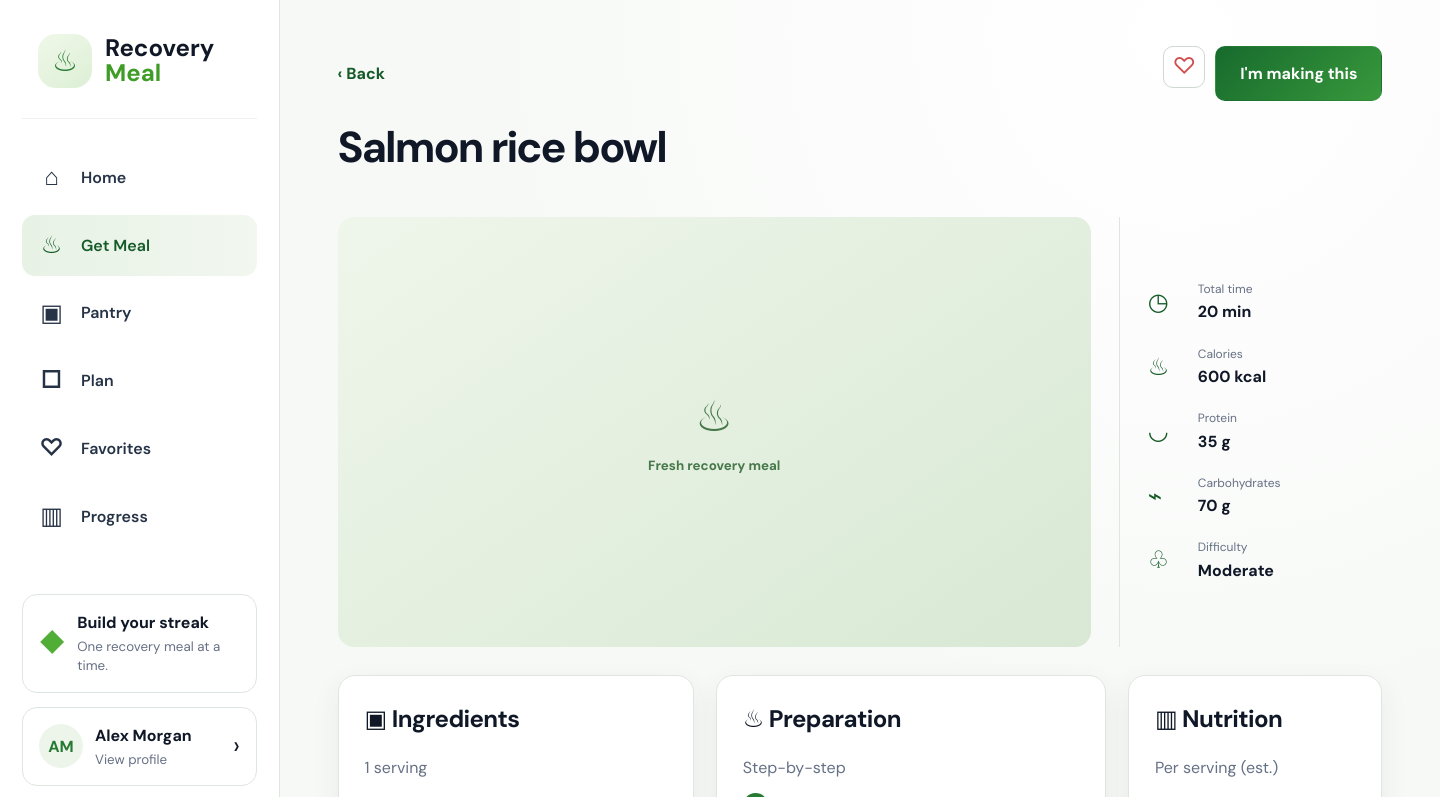
Scenario: Recovery Meal V2 › confirms when a meal is selected from its detail page
Click the button "I'm making this" at (1299, 74), box x1=1215 y1=46 x2=1382 y2=101
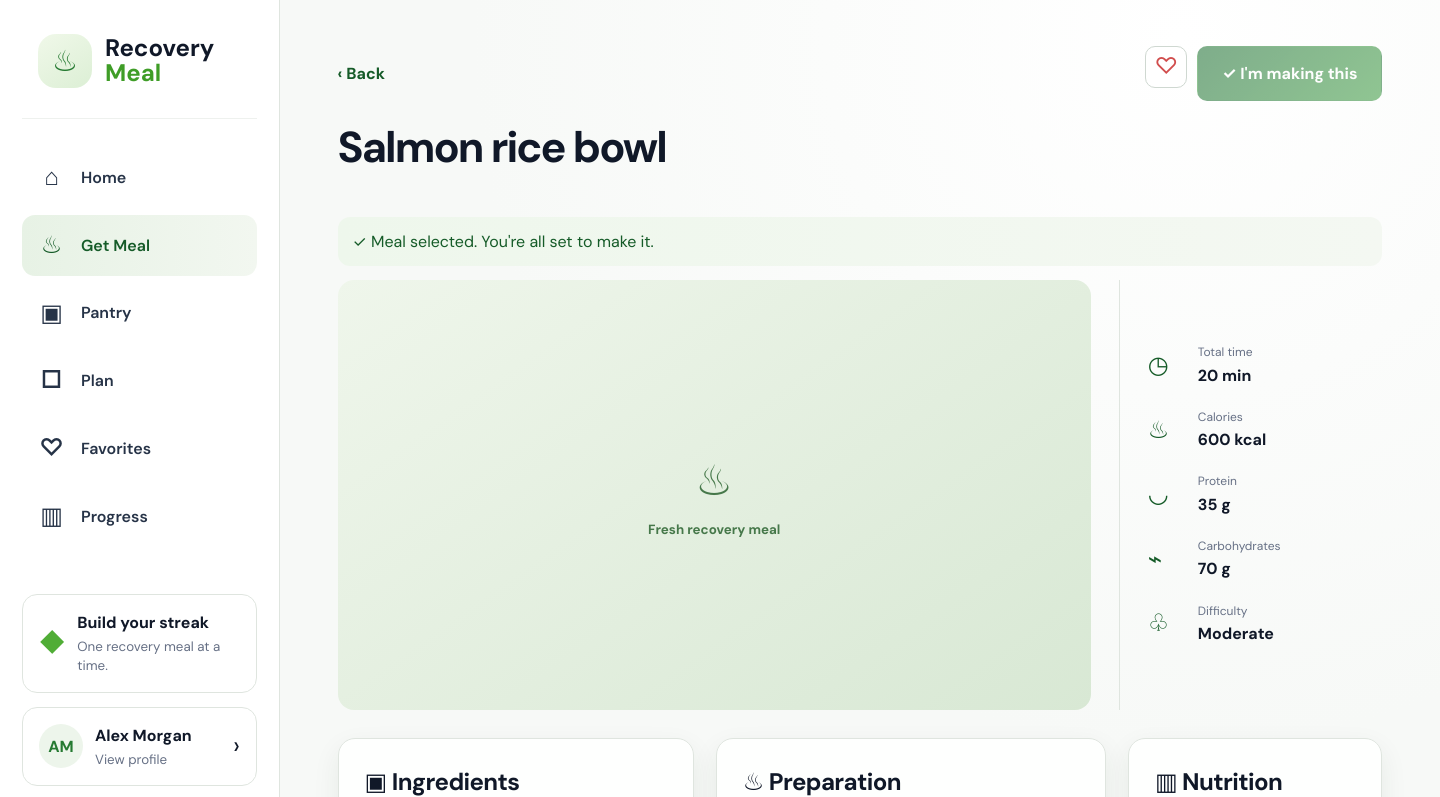
Result: the text "✓ Meal selected. You're all set to make it." is shown at x1=338 y1=216 x2=1382 y2=266
Result: the button "✓ I'm making this" is disabled at x1=1197 y1=46 x2=1382 y2=101
